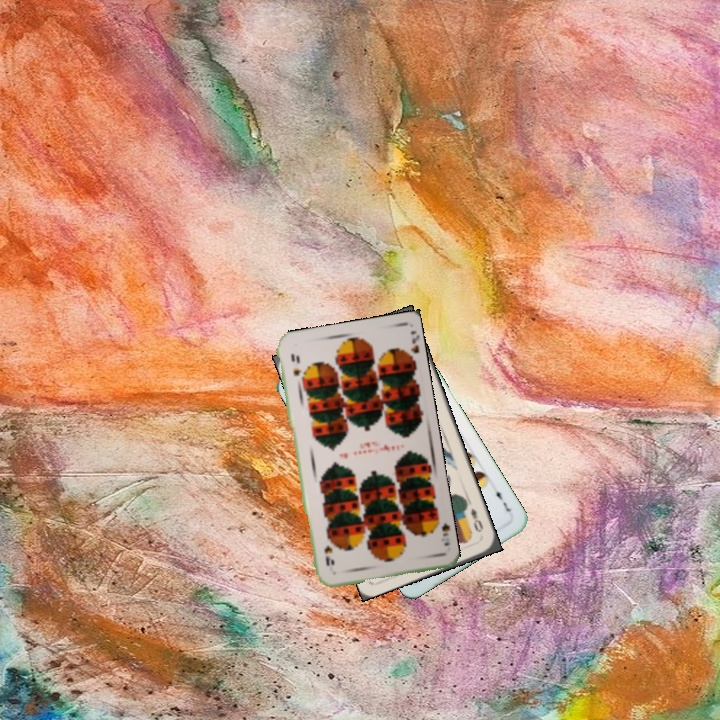E7: (491, 483, 513, 514)
EO: (467, 504, 486, 535)
S9: (429, 513, 452, 549), (287, 349, 302, 378)
